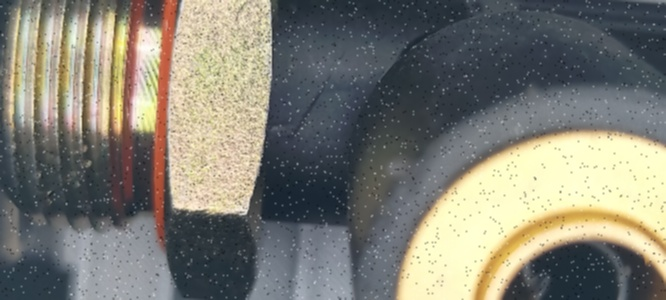craze: (296, 72, 326, 138)
off-centered: (509, 231, 637, 299)
white mark: (267, 120, 287, 139)
